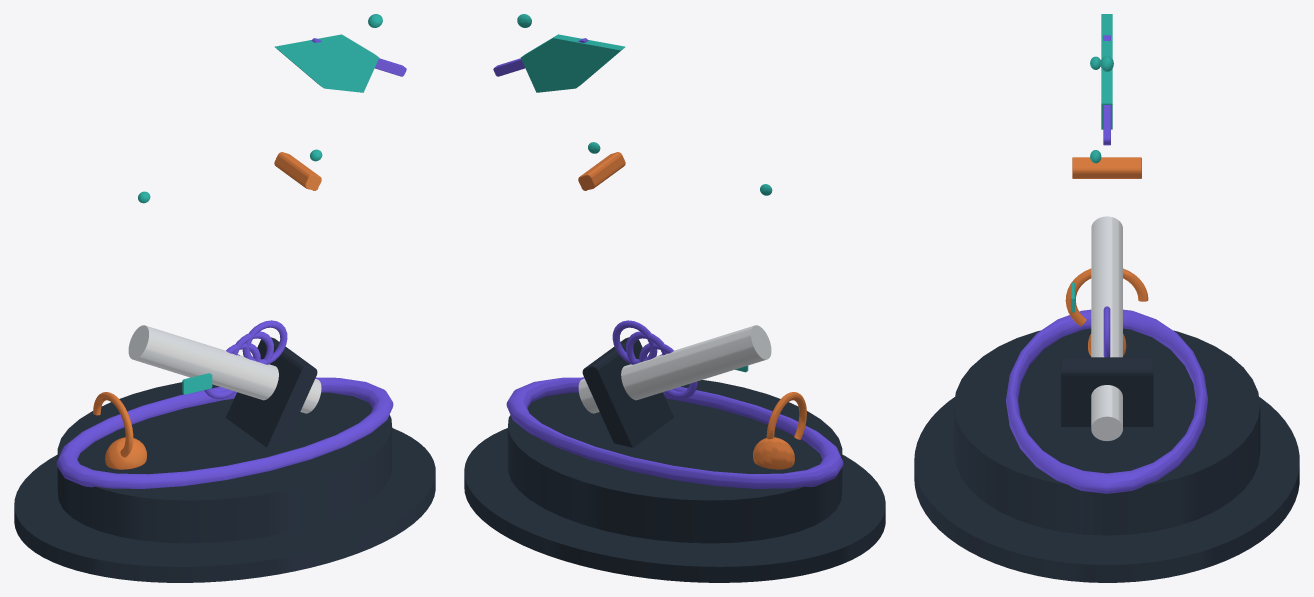
The model's file is 0254_世界古代文明图鉴_桔槔.glb.
The picture shows the model from 3 angles, left to right: view 1: azimuth 30°, elevation 25°; view 2: azimuth 150°, elevation 25°; view 3: azimuth 270°, elevation 25°; orthographic projection. The views are drawn at different scales.
Visible parts, largest first — view 1: card_0254; view 2: card_0254; view 3: card_0254.
Boxes of the visible parts, x1,y1,x2,y2 form: card_0254: (14,14,435,582); card_0254: (464,14,885,582); card_0254: (914,14,1299,582).
Size of the model in its own units: 0.8747 by 1 by 0.6831.
